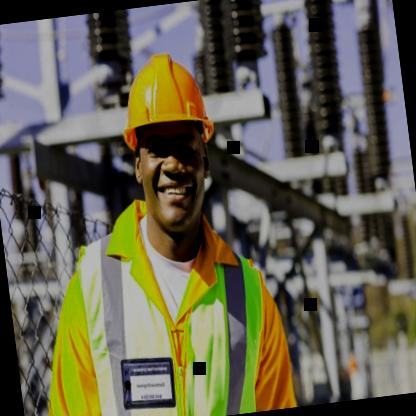helmet: (102, 26, 233, 253)
